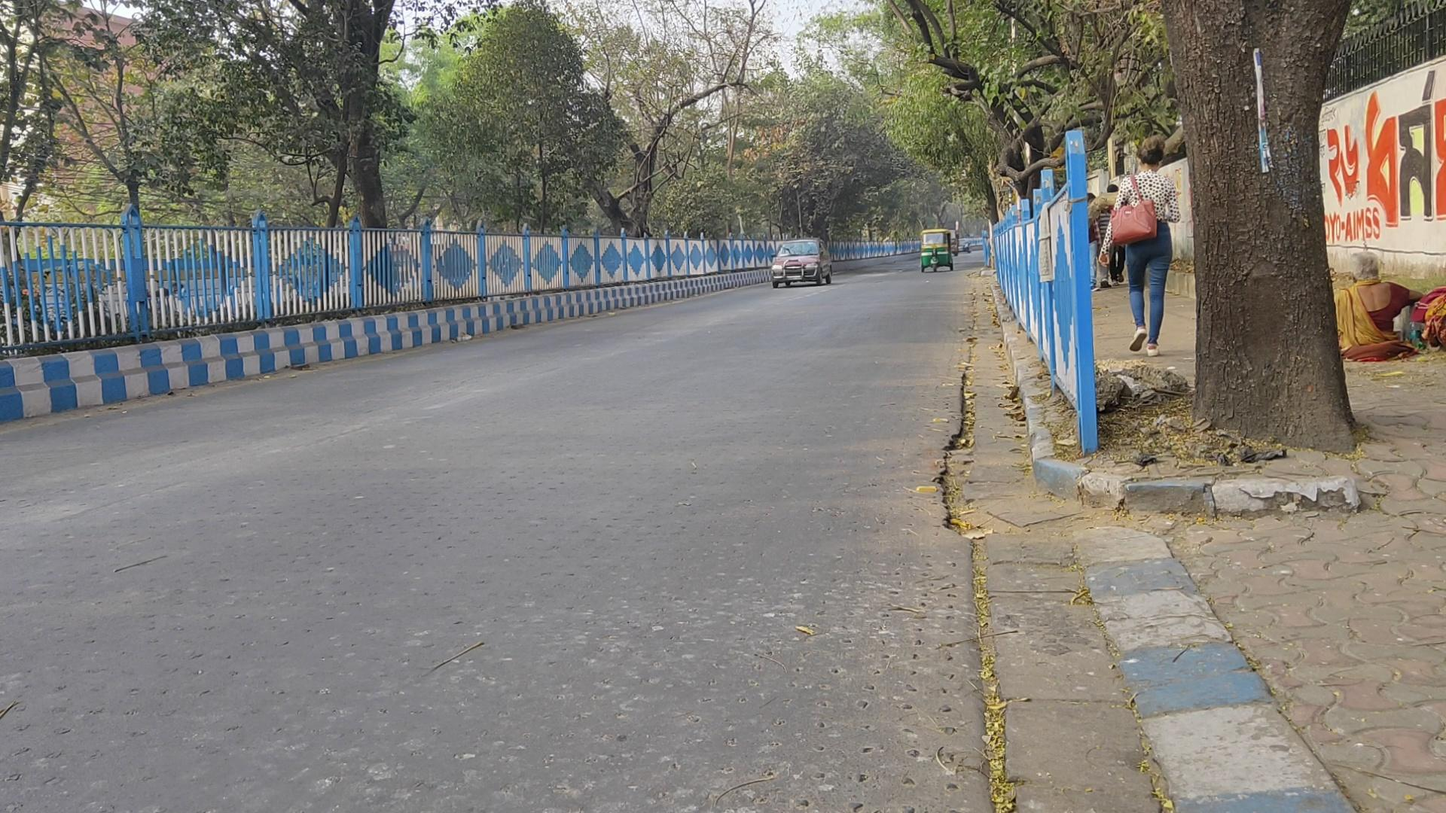Auto: (919, 227, 954, 275)
car: (769, 236, 831, 291)
